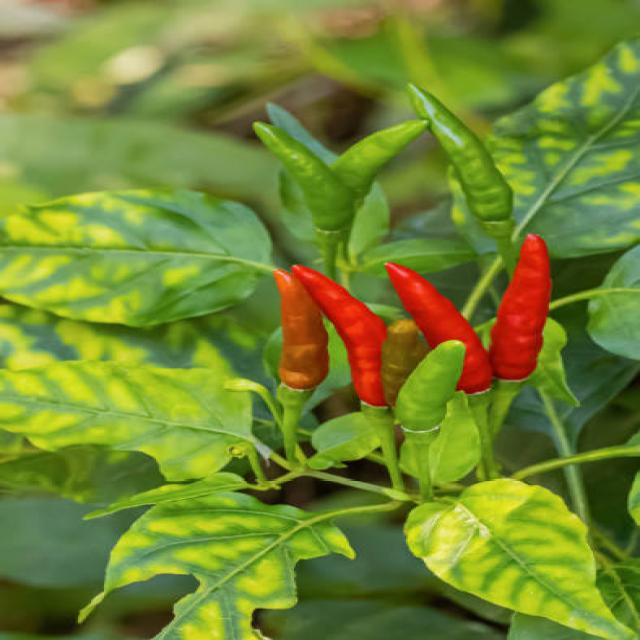Ripe: (378, 259, 499, 390), (292, 266, 385, 406), (491, 234, 551, 380)
Unripe: (408, 84, 510, 219), (255, 123, 352, 228), (333, 120, 426, 191), (273, 270, 328, 390), (393, 341, 463, 432)
